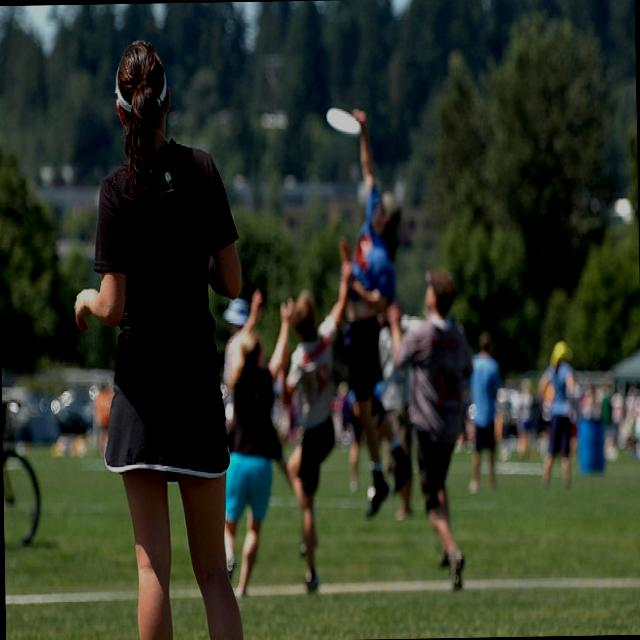Vehicle: (51, 382, 101, 432)
